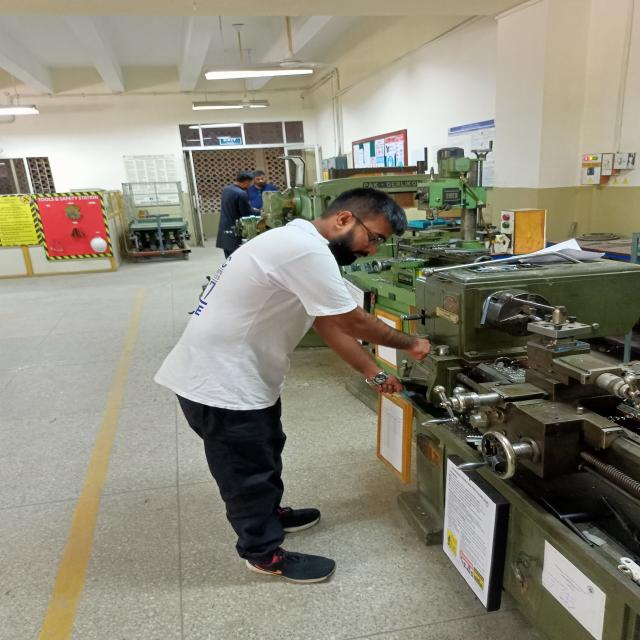dress: (149, 209, 366, 555)
glasses: (358, 230, 406, 250)
